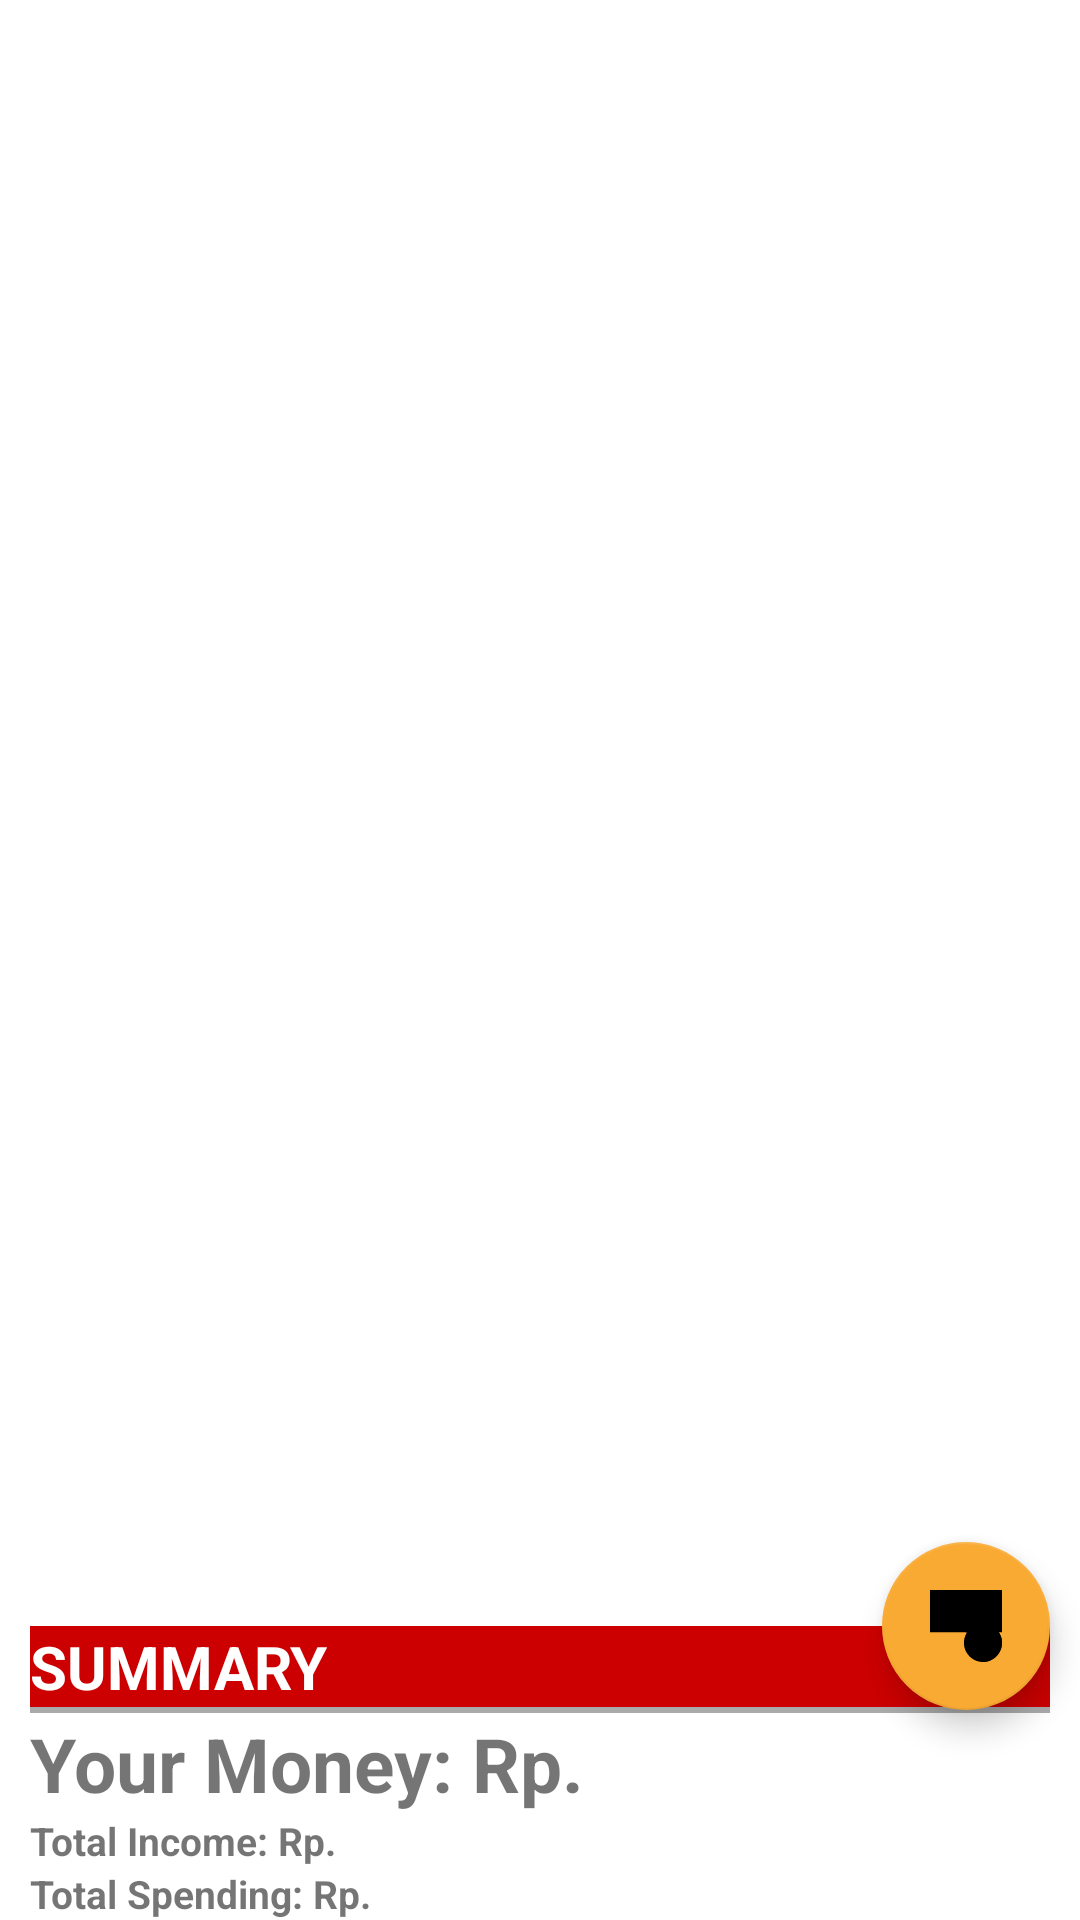

Where to tap for icons on this 1080px x 1920px app screen, as [x,y]:
add money: [966,1626]
